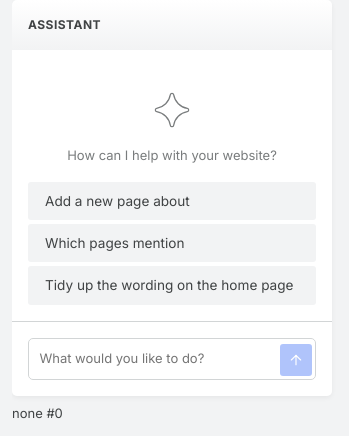
Test case: AssistantPage › shows the error the server streams when the assistant fails part-way
The width and height of the screenshot is (349, 436).
Type "Hello" into the text box named "Message the assistant" at (172, 359), box [28,338,316,380]
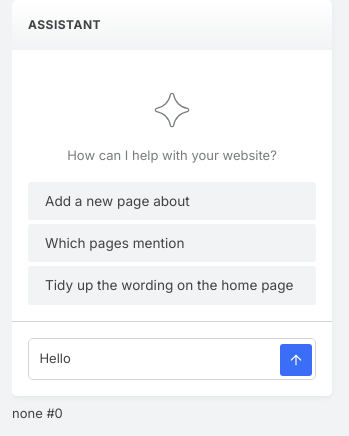
Press Enter in the text box named "Message the assistant", box [28,338,316,380]
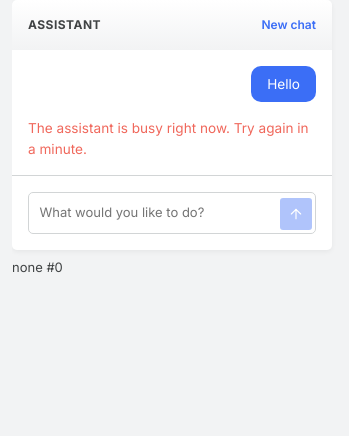
Check: the text "The assistant is busy right now. Try again in a minute." is shown, box [28,120,309,157]
